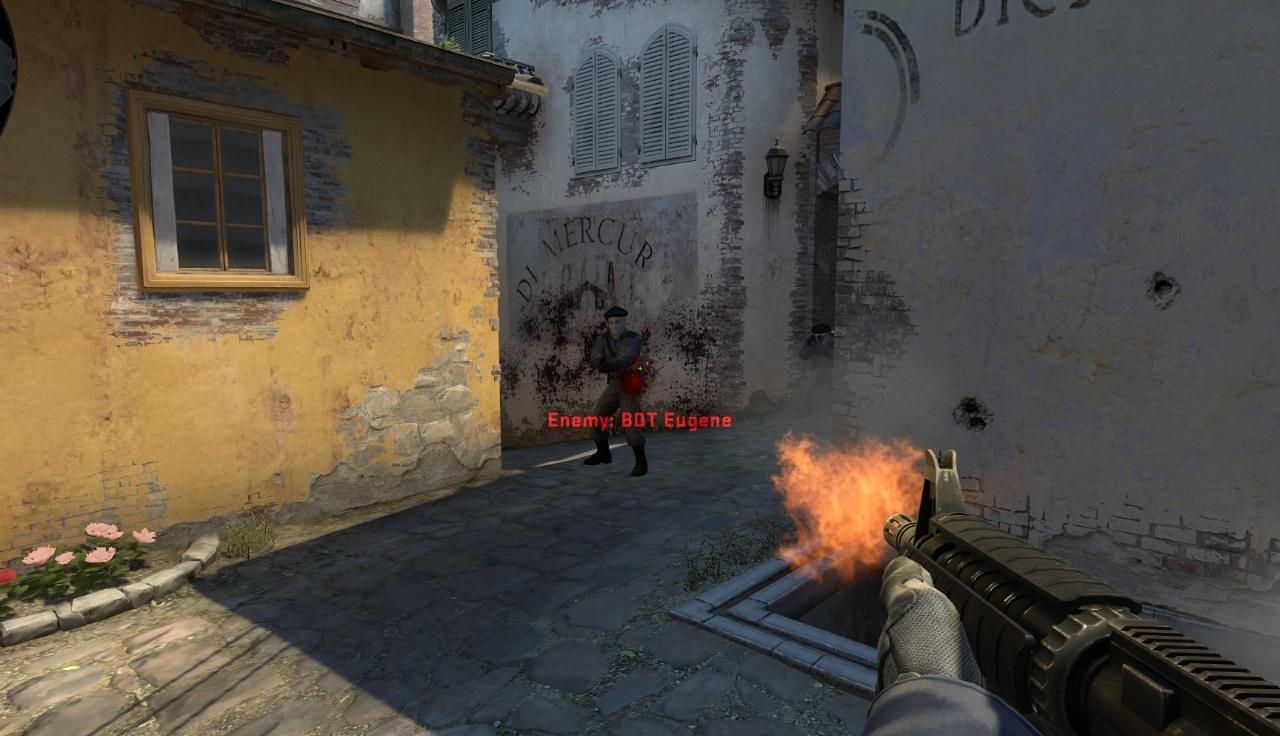rifle: (859, 448, 1280, 733)
tt: (582, 305, 650, 472), (798, 321, 836, 418)
tthead: (605, 308, 627, 335), (812, 324, 831, 345)
